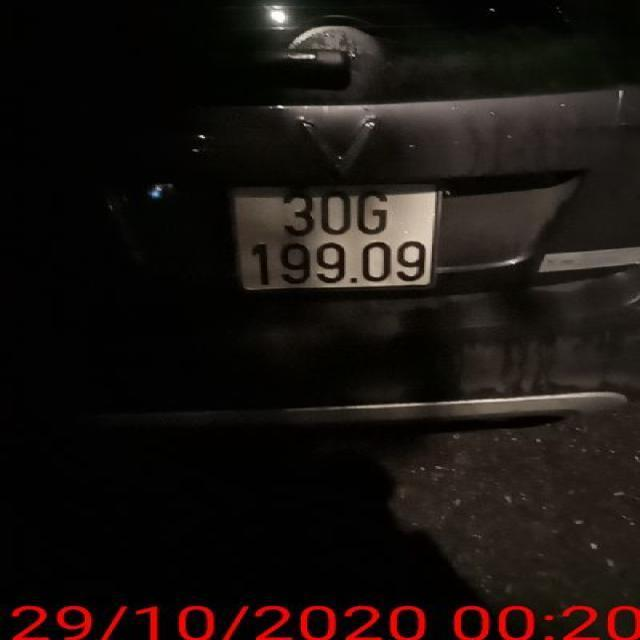bien_so_oto: (224, 178, 444, 294)
